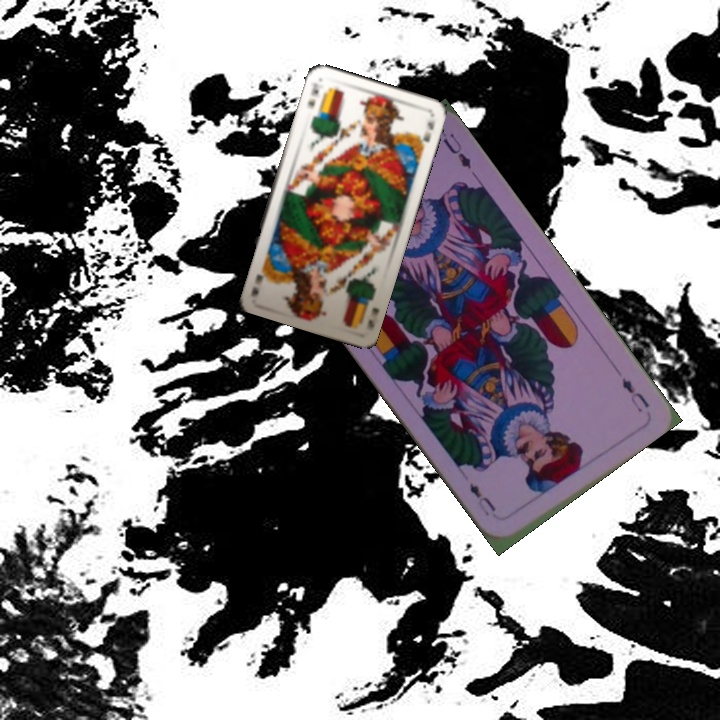EK: (303, 80, 322, 111), (363, 303, 382, 333)
EU: (617, 373, 652, 415)
